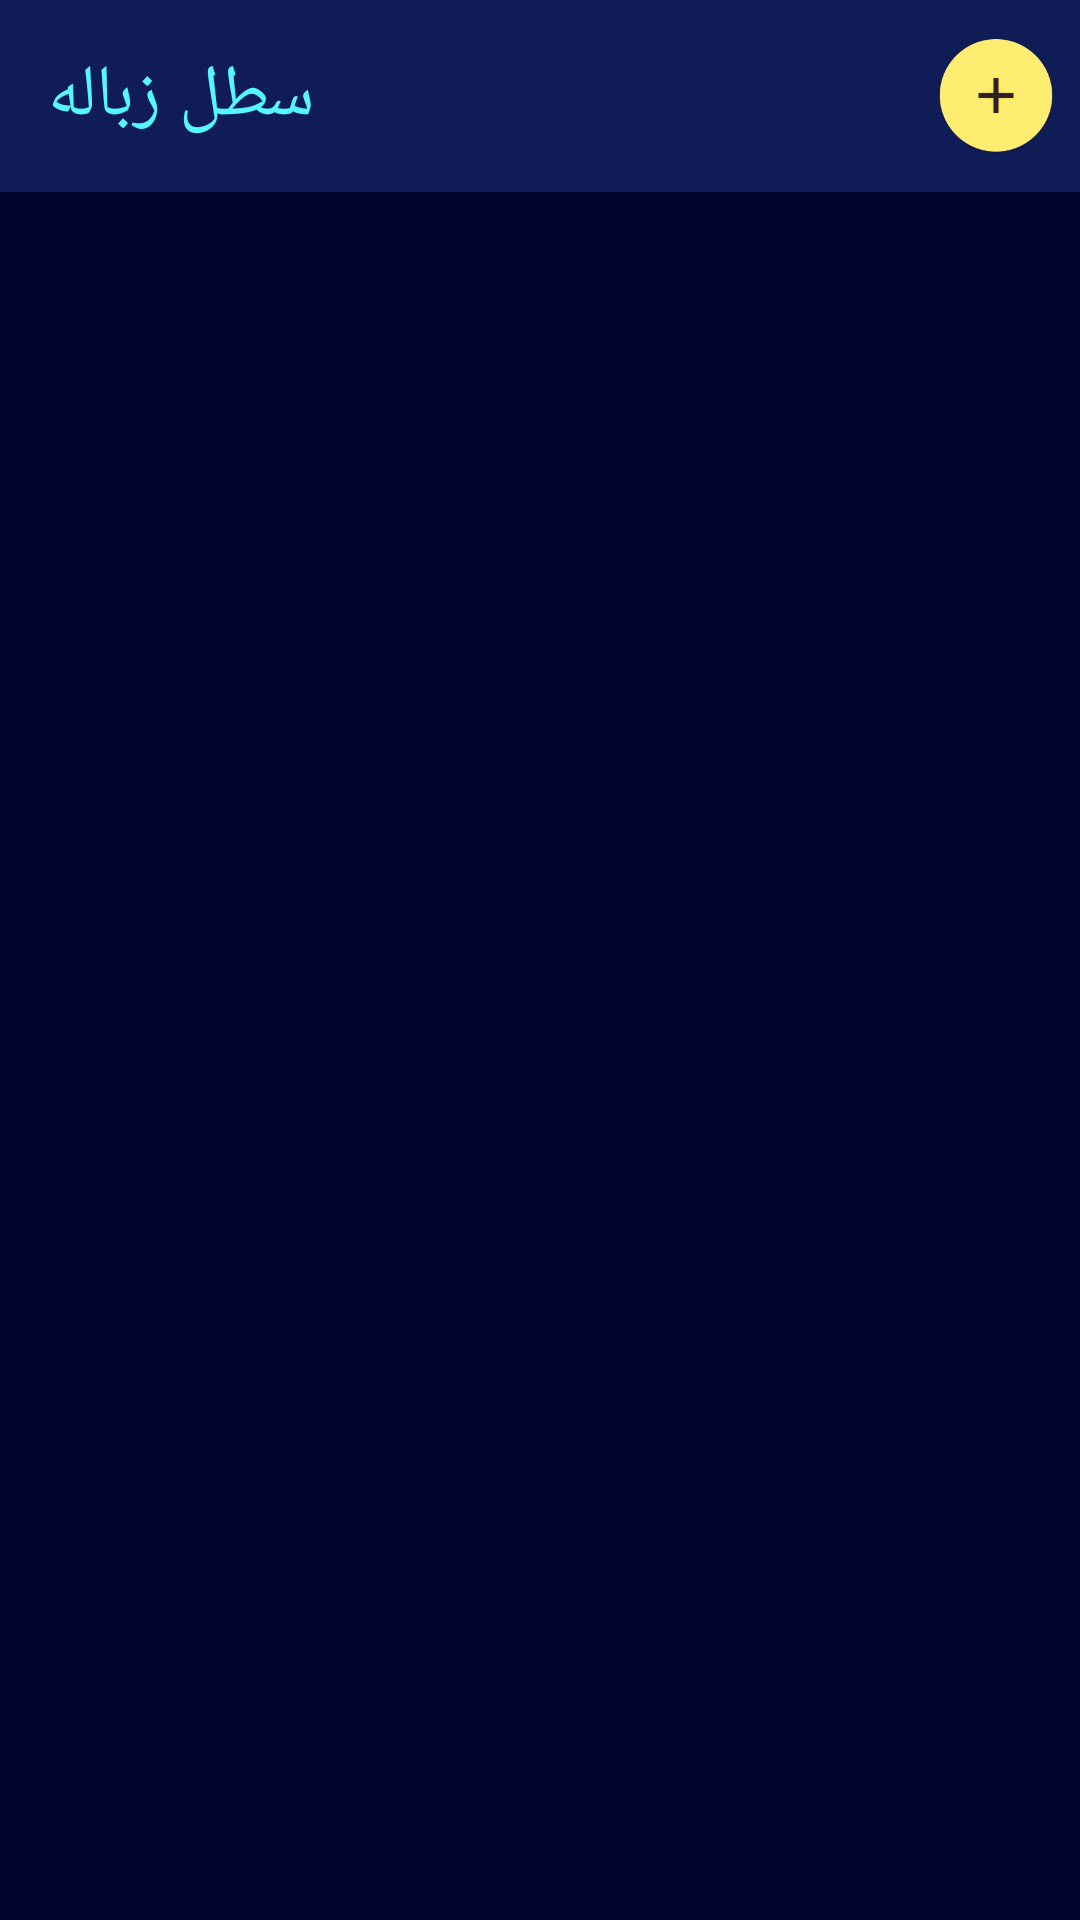

Icons on this 1080 × 1920 Android screen, each with its box as (x1, y1, x2, y2):
add: (940, 39, 1052, 152)
